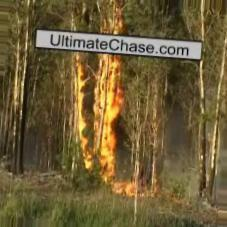fire: (64, 3, 150, 196)
